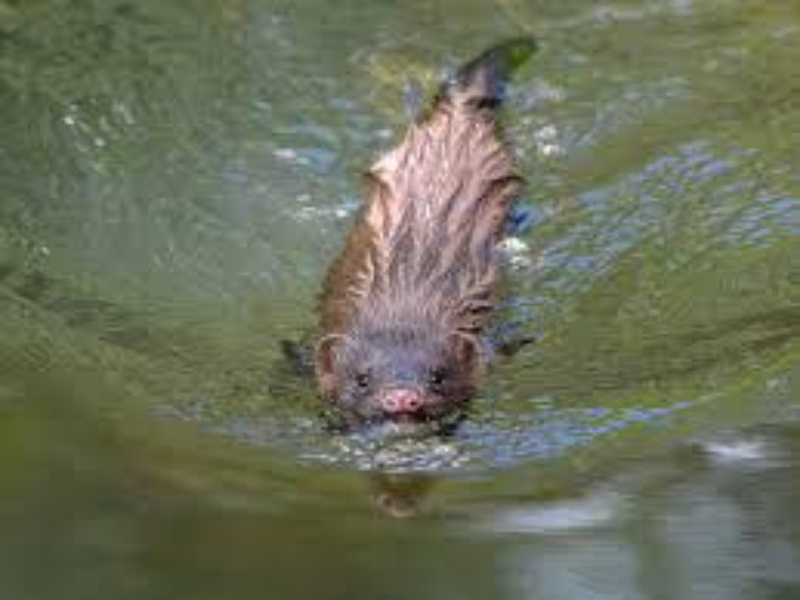minkish: (309, 30, 541, 425)
